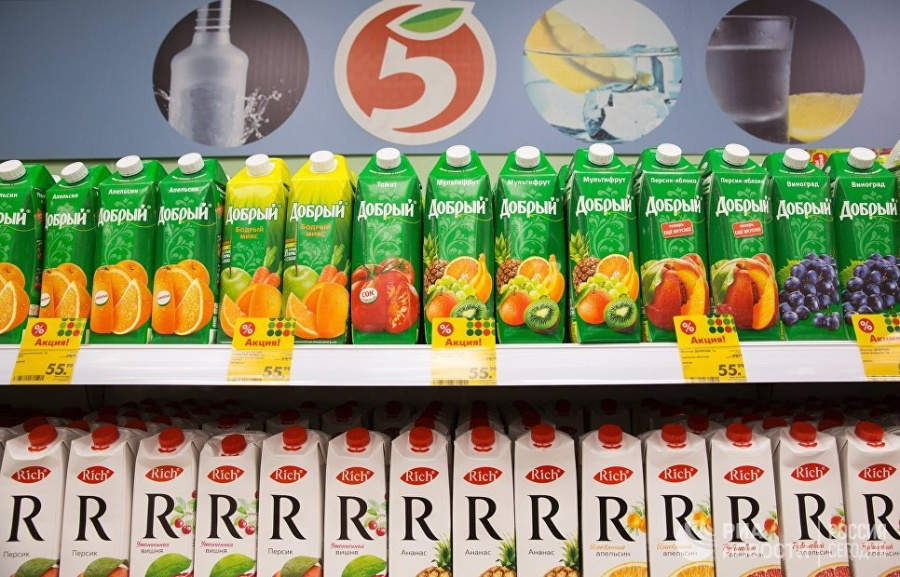juice: (561, 142, 648, 352), (699, 146, 788, 349), (84, 146, 171, 352), (211, 142, 295, 352), (764, 144, 850, 343), (492, 143, 573, 353), (425, 139, 498, 356), (638, 140, 714, 347), (352, 144, 425, 350), (286, 144, 357, 352), (317, 414, 404, 577), (638, 409, 719, 577), (508, 410, 589, 577), (575, 410, 656, 577), (156, 139, 215, 360), (253, 413, 328, 577), (452, 421, 520, 577), (386, 427, 454, 577)
